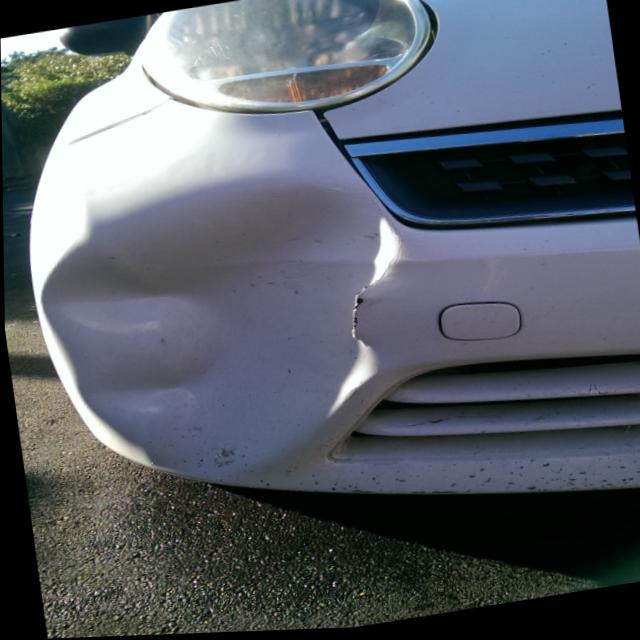Dent: (20, 145, 416, 517)
